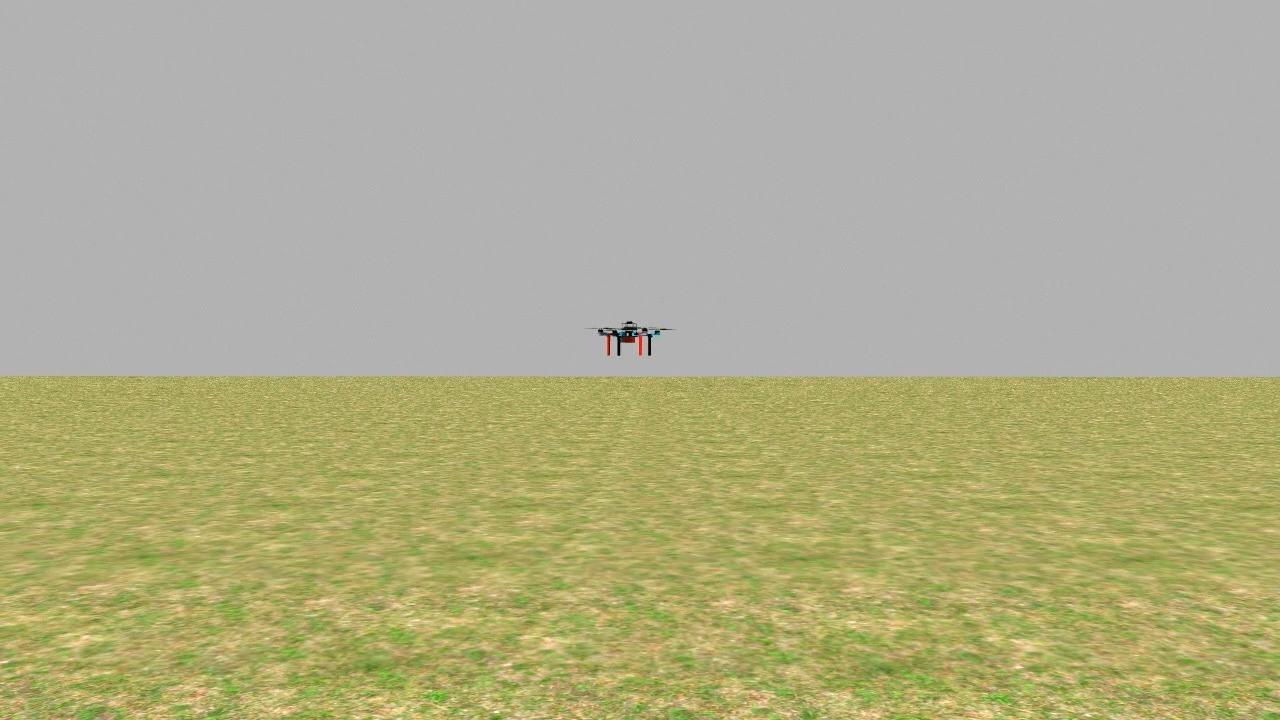UAV: (587, 314, 670, 364)
